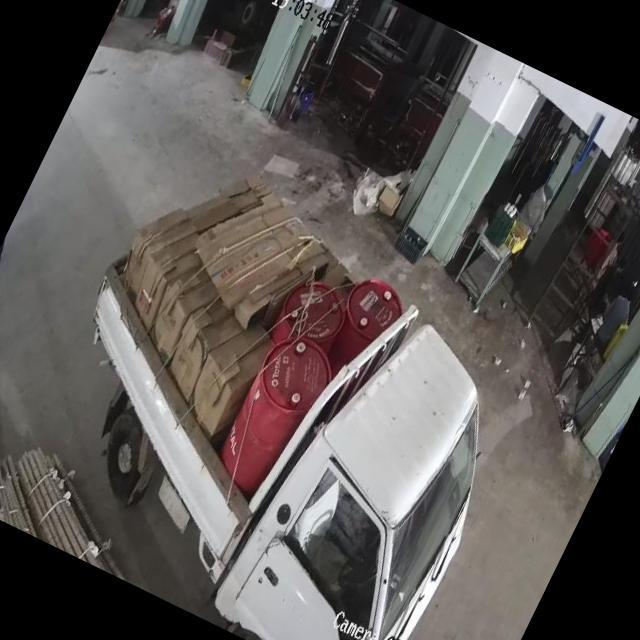person: (586, 281, 638, 361)
